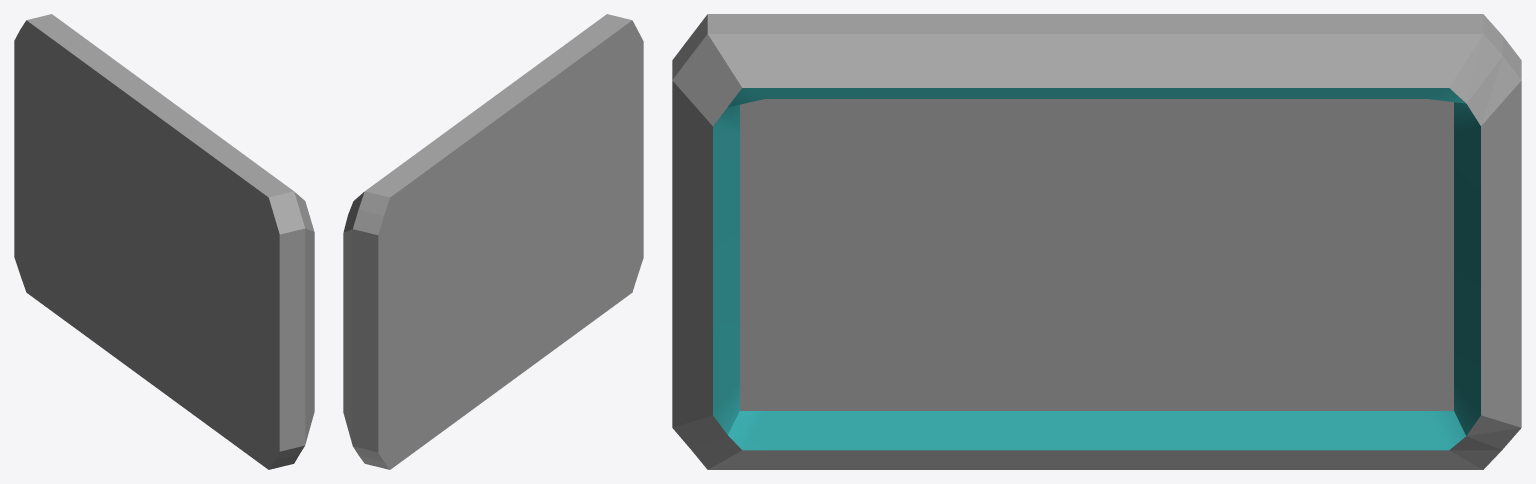
Rendered from scifiFrame.fbx.
The picture shows the model from 3 angles, left to right: view 1: azimuth 30°, elevation 25°; view 2: azimuth 150°, elevation 25°; view 3: azimuth 270°, elevation 25°; orthographic projection. The views are drawn at different scales.
Parts seen in each view (by area): view 1: Frame; view 2: Frame; view 3: Frame, LightFrame.
Part boxes in pixels (left/top/right/bottom): Frame: left=14, top=14, right=314, bottom=469; Frame: left=343, top=14, right=643, bottom=469; Frame: left=672, top=14, right=1521, bottom=469; LightFrame: left=713, top=88, right=1480, bottom=450.
Bounding box in the file's own units: 0.1822 × 1 × 1.77.
